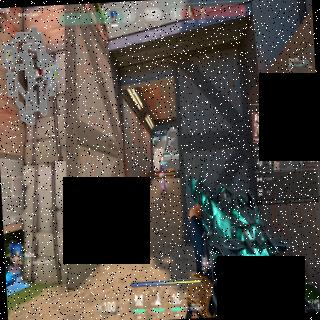ENEMY-BODY: (156, 152, 166, 174)
